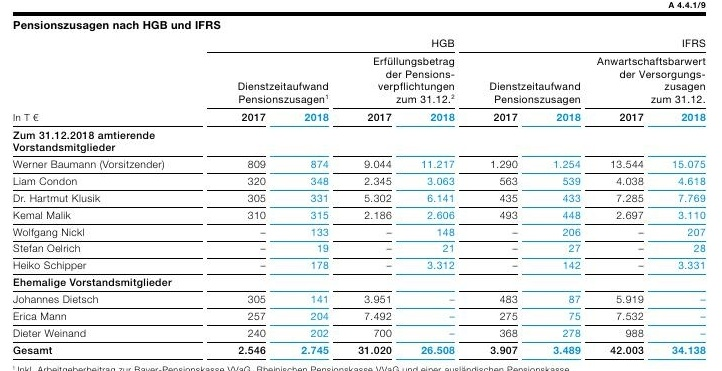table: (0, 0, 722, 371)
